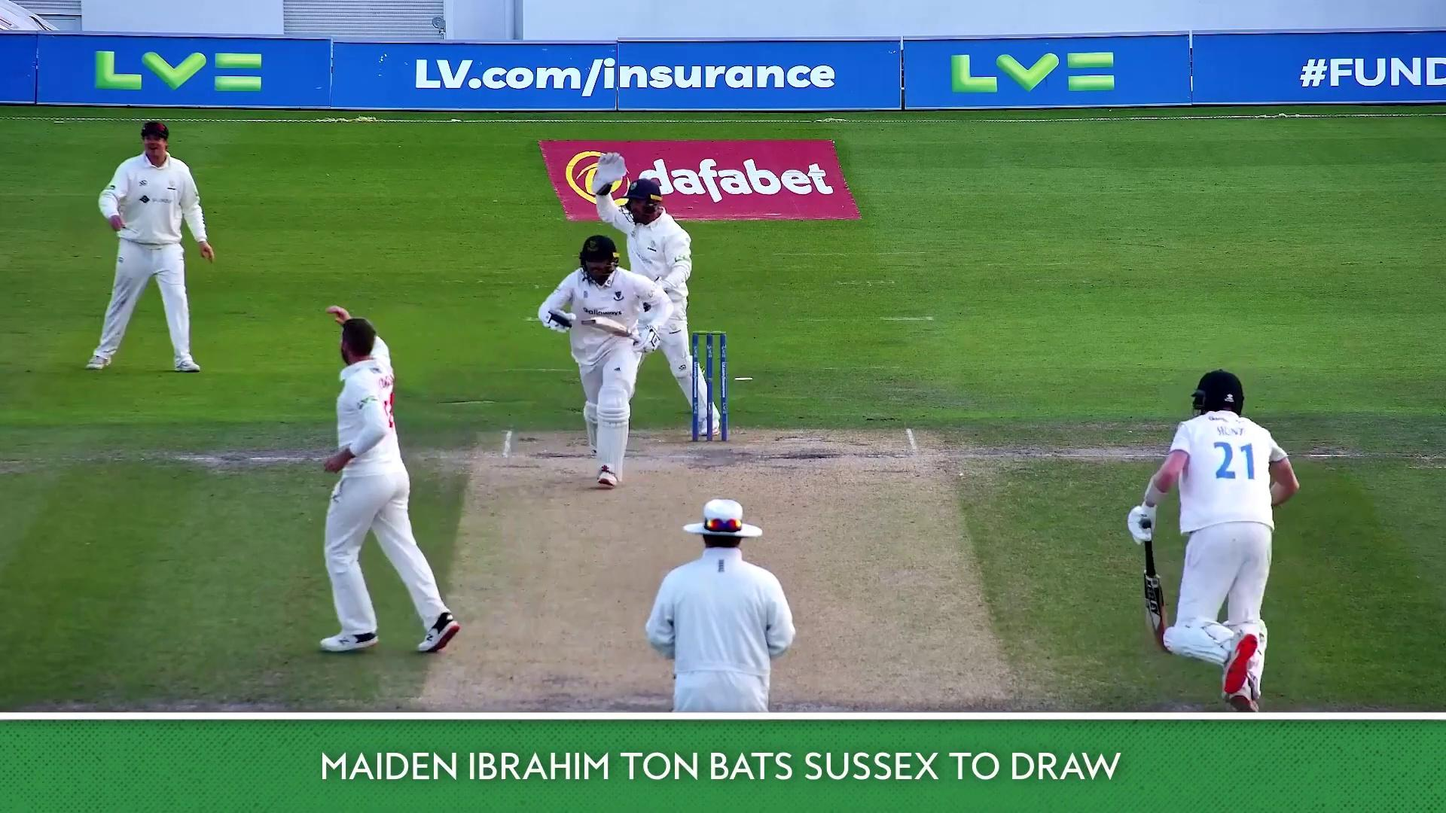batsman: (536, 236, 672, 488)
